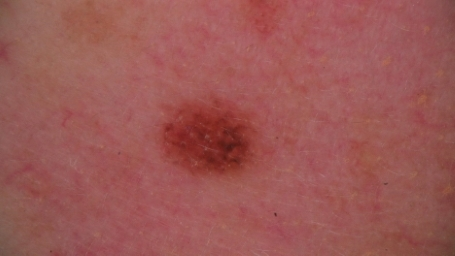nevus: (157, 94, 255, 178)
